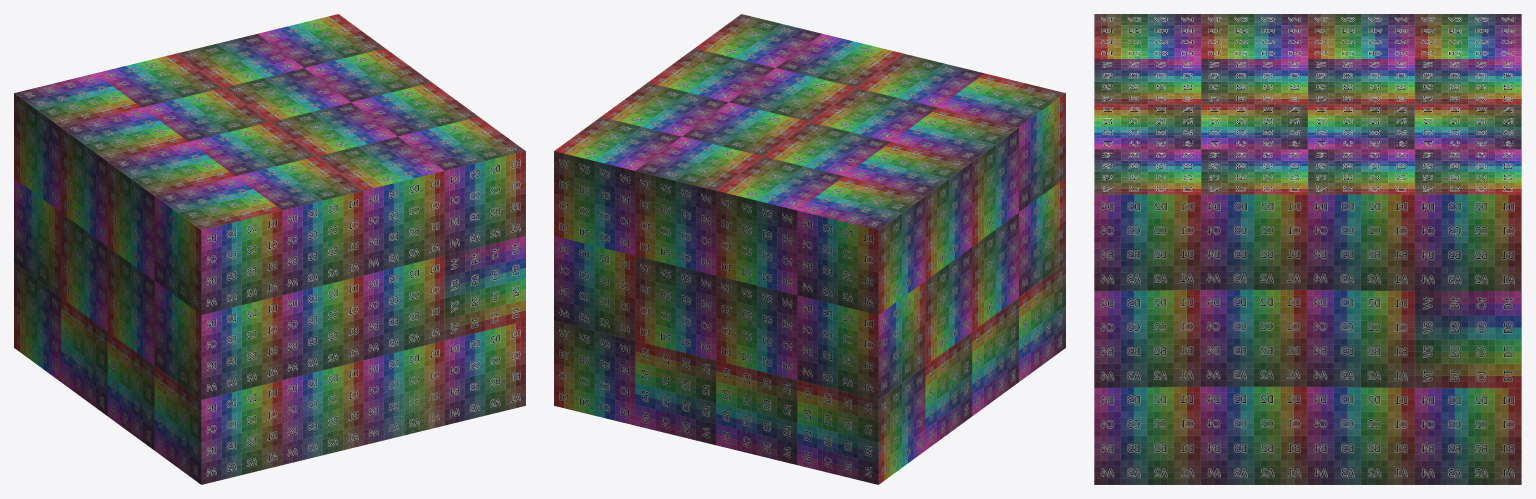
File: TableTennisRoom.gltf
The picture shows the model from 3 angles, left to right: view 1: azimuth 30°, elevation 25°; view 2: azimuth 150°, elevation 25°; view 3: azimuth 270°, elevation 25°; orthographic projection. The views are drawn at different scales.
Visible parts, largest first — view 1: TableTennisRoom; view 2: TableTennisRoom; view 3: TableTennisRoom.
Boxes of the visible parts, <box> form: TableTennisRoom: <box>14,14,525,484</box>; TableTennisRoom: <box>554,14,1065,484</box>; TableTennisRoom: <box>1094,14,1521,484</box>.
Bounding box in the file's own units: 4 × 3 × 4.
1 material, 1 textured.
